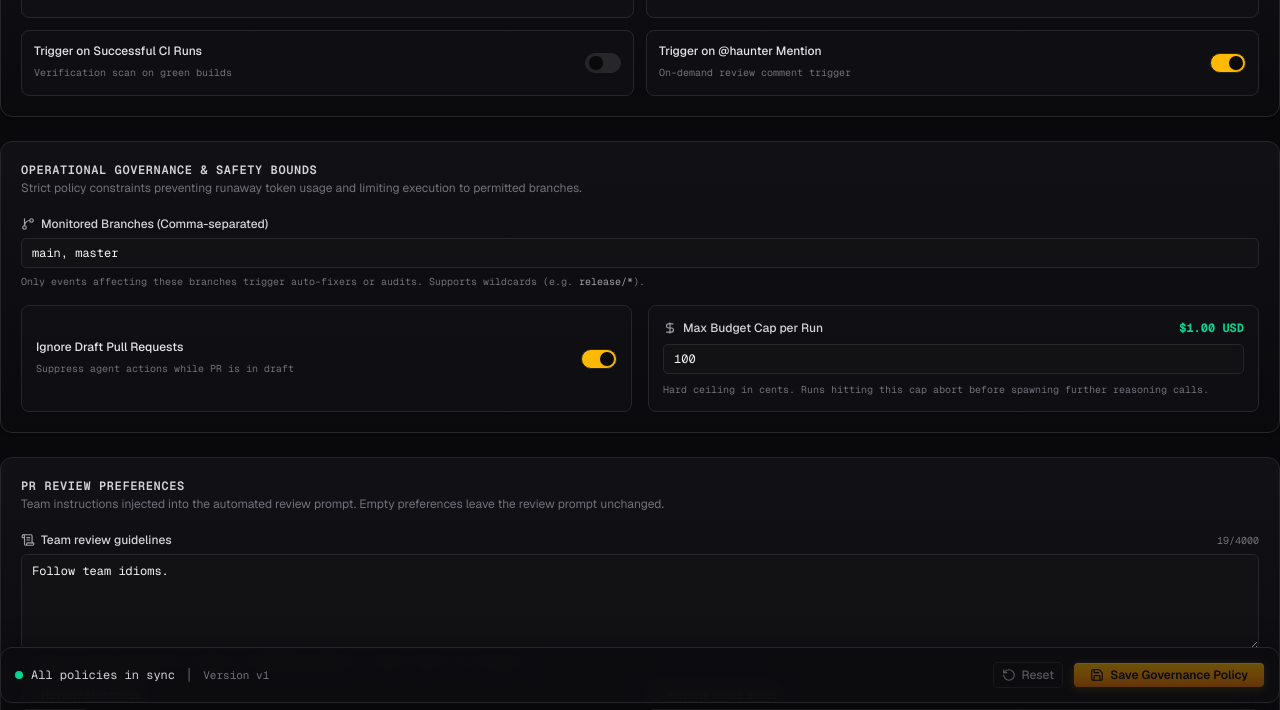
Scenario: RepoSettingsCard (components/settings/RepoSettingsCard.tsx) › submits updated policy payload when Save Governance Policy is clicked
The image size is (1280, 710).
(page scrolled)
Replace the text in the number field labelled "Max Budget Cap per Run" with "150" at [954, 359], box [663, 344, 1244, 374]
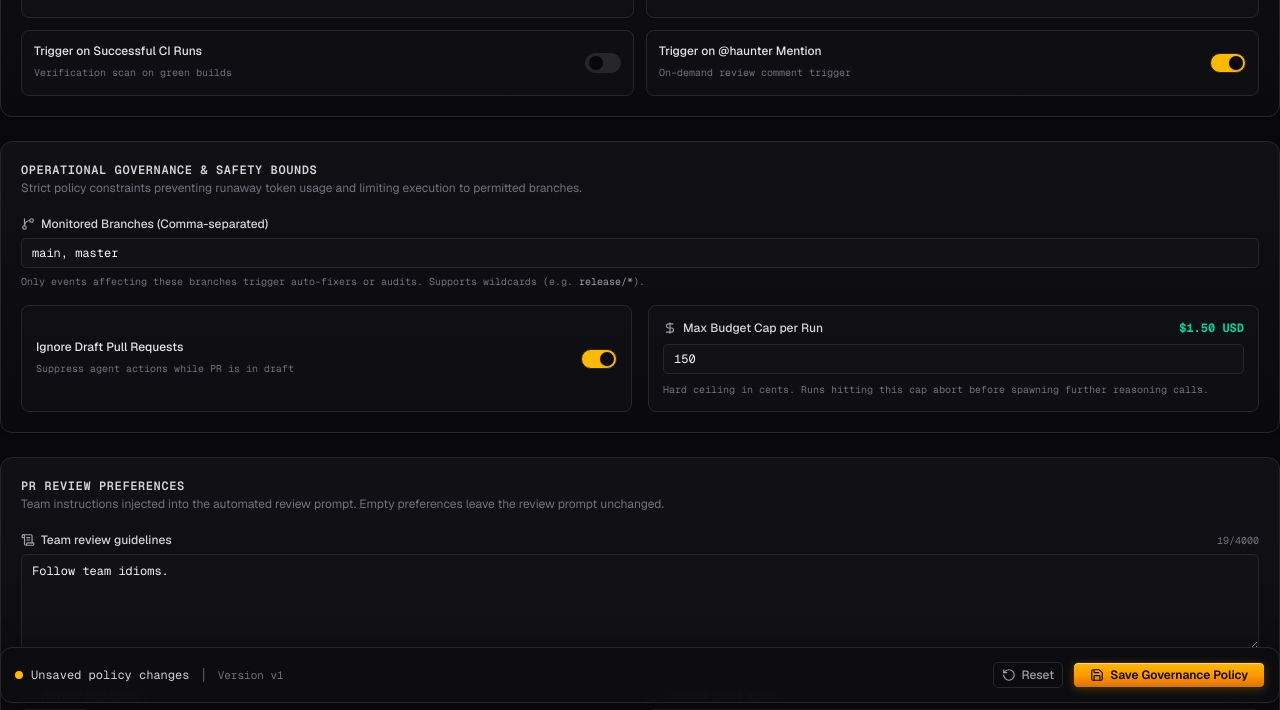
Check: the button "Save Governance Policy" is enabled
Click the button "Save Governance Policy" at [1169, 675], box [1073, 662, 1265, 688]
(page scrolled)
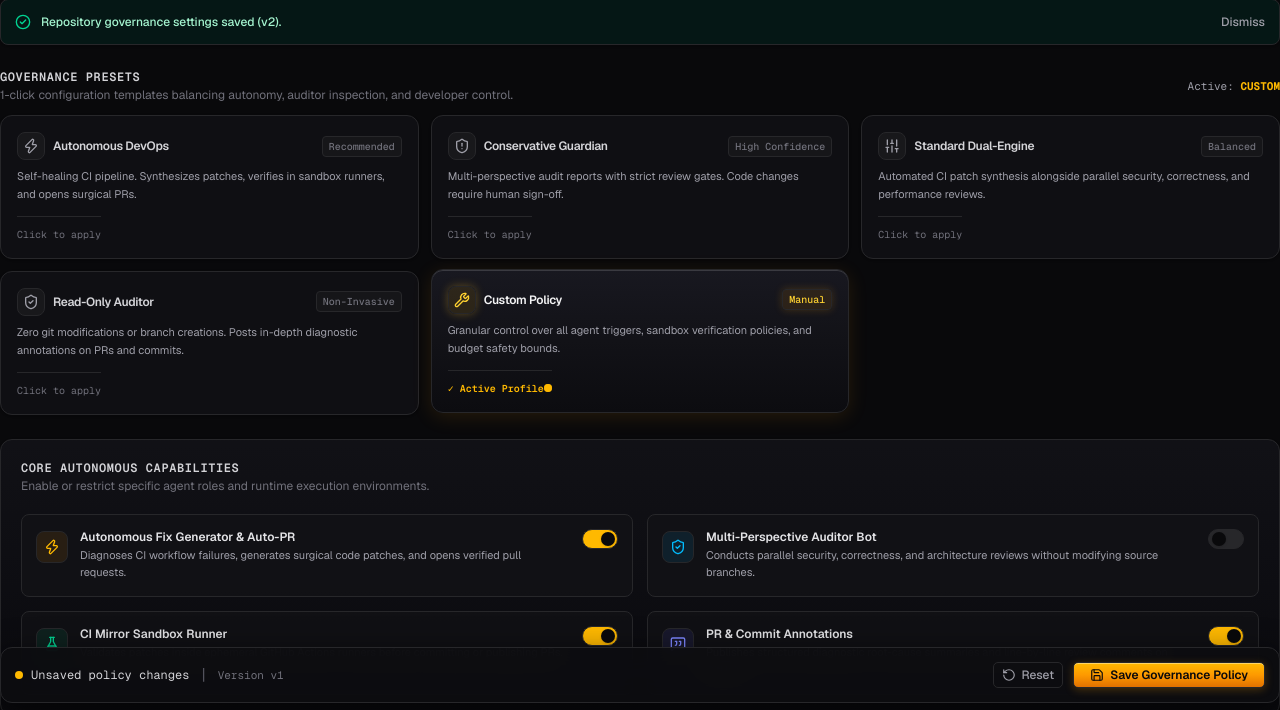
Check: the text "Repository governance settings saved (v2)." is shown, box [41, 14, 281, 30]
